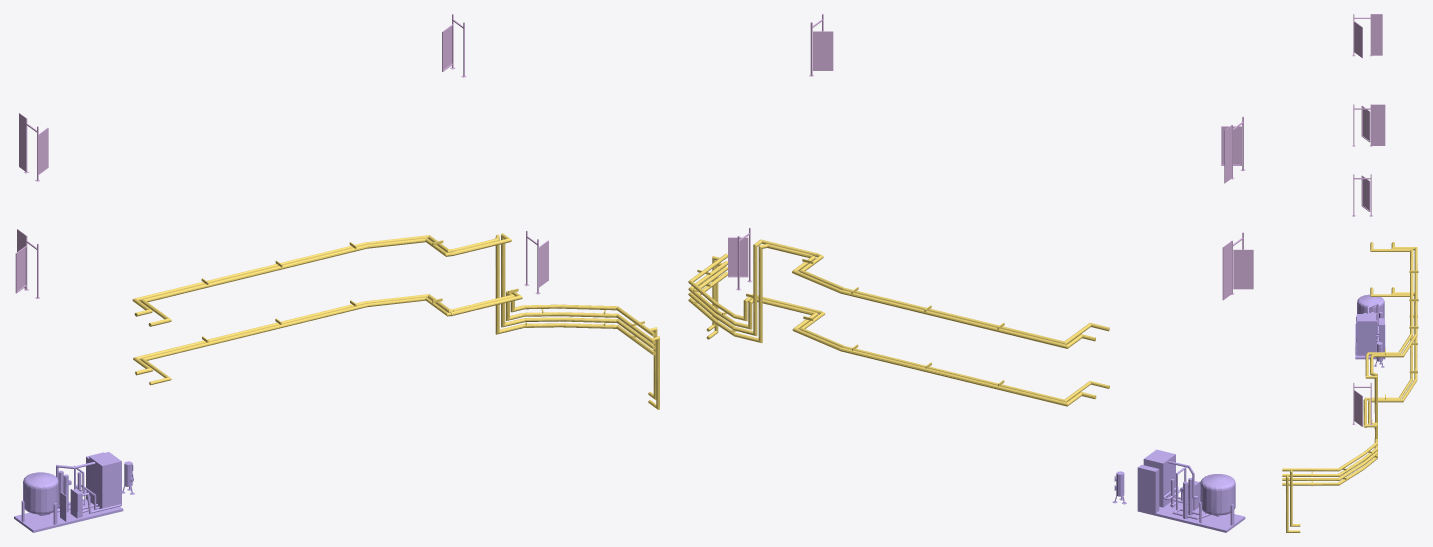
The model's file is HO-side-C-Services-cut1.glb.
The picture shows the model from 3 angles, left to right: view 1: azimuth 30°, elevation 25°; view 2: azimuth 150°, elevation 25°; view 3: azimuth 270°, elevation 25°; orthographic projection. The views are drawn at different scales.
Parts seen in each view (by area): view 1: _000002C6AF70C130_IndexedFaceSet, _000002C6B32088A0_IndexedFaceSet, _000002C6B32034A0_IndexedFaceSet; view 2: _000002C6AF70C130_IndexedFaceSet, _000002C6B32088A0_IndexedFaceSet, _000002C6B32034A0_IndexedFaceSet; view 3: _000002C6AF70C130_IndexedFaceSet, _000002C6B32034A0_IndexedFaceSet, _000002C6B32088A0_IndexedFaceSet.
Boxes of the visible parts, box(x1,y1,x2,y2) form: _000002C6AF70C130_IndexedFaceSet: box(132, 233, 659, 409); _000002C6B32088A0_IndexedFaceSet: box(14, 452, 134, 532); _000002C6B32034A0_IndexedFaceSet: box(15, 14, 548, 298); _000002C6AF70C130_IndexedFaceSet: box(688, 239, 1109, 406); _000002C6B32088A0_IndexedFaceSet: box(1112, 449, 1245, 532); _000002C6B32034A0_IndexedFaceSet: box(728, 14, 1253, 300); _000002C6AF70C130_IndexedFaceSet: box(1282, 242, 1418, 532); _000002C6B32034A0_IndexedFaceSet: box(1352, 14, 1385, 426); _000002C6B32088A0_IndexedFaceSet: box(1355, 294, 1385, 367).
Bounding box in the file's own units: 26.58 × 17.3 × 6.84.
